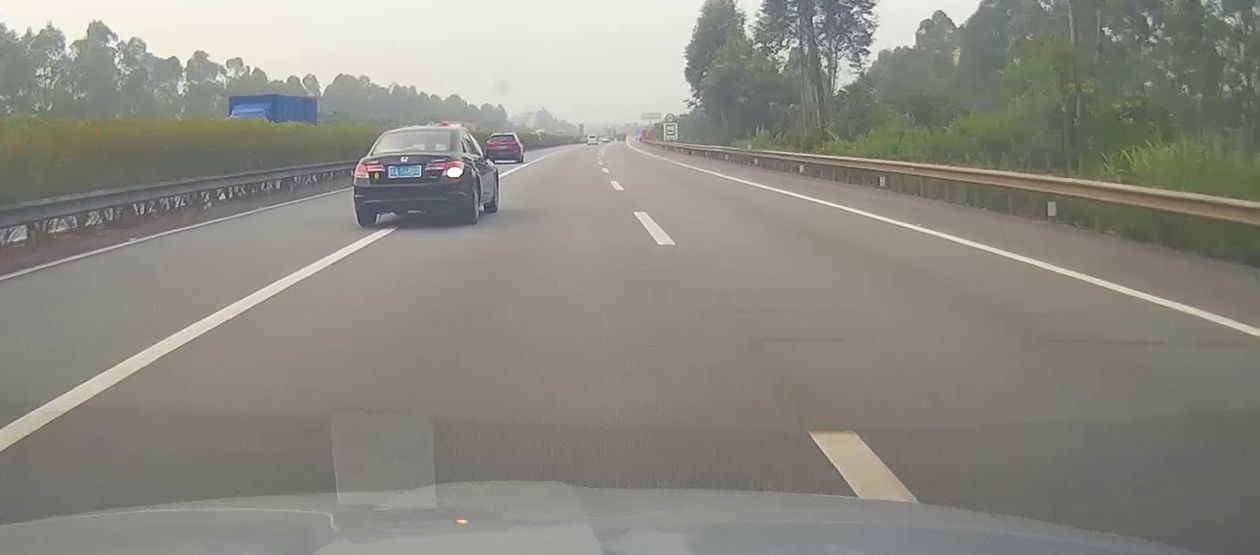L_light: (354, 163, 384, 179), (485, 143, 493, 149)
R_light: (424, 161, 465, 177), (510, 144, 519, 149)
T_light: (407, 129, 425, 132), (498, 134, 506, 137)
day-no: (484, 133, 522, 164)
day-right: (353, 127, 475, 226)
